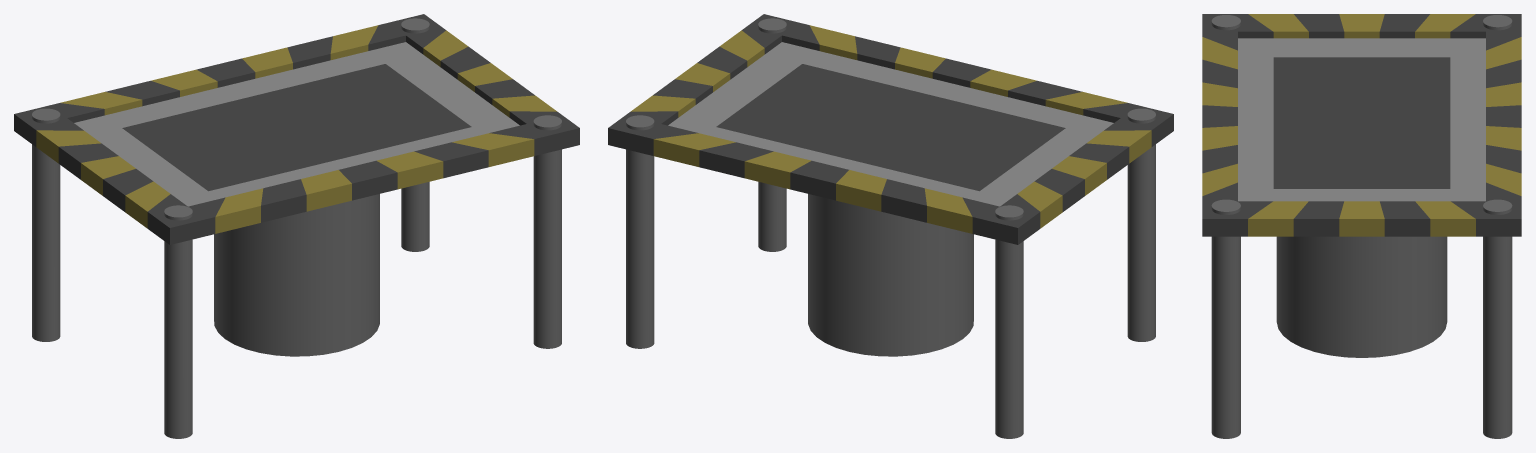
The model's file is poolPlatform.fbx.
The picture shows the model from 3 angles, left to right: view 1: azimuth 30°, elevation 25°; view 2: azimuth 150°, elevation 25°; view 3: azimuth 270°, elevation 25°; orthographic projection. The views are drawn at different scales.
Visible parts, largest first — view 1: Cube, Cylinder.001, Cylinder; view 2: Cube, Cylinder.001, Cylinder; view 3: Cube, Cylinder.001, Cylinder.
Boxes of the visible parts, left/top/right/bottom form: Cube: left=14, top=14, right=579, bottom=244; Cylinder.001: left=214, top=194, right=379, bottom=356; Cylinder: left=32, top=18, right=561, bottom=438; Cube: left=608, top=14, right=1173, bottom=244; Cylinder.001: left=808, top=194, right=973, bottom=356; Cylinder: left=626, top=18, right=1155, bottom=438; Cube: left=1202, top=14, right=1521, bottom=236; Cylinder.001: left=1276, top=236, right=1447, bottom=357; Cylinder: left=1211, top=15, right=1512, bottom=438.
Bounding box in the file's own units: 1299 × 670 × 855.
